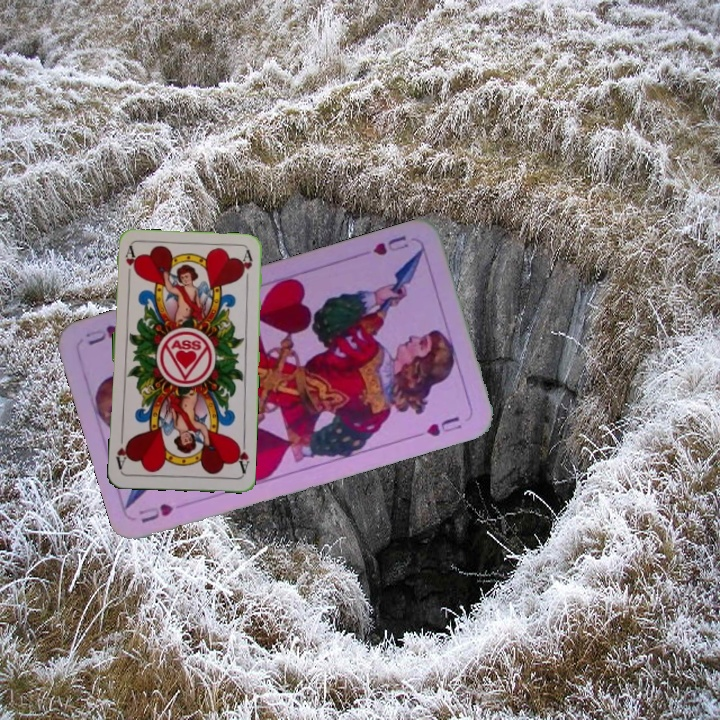HA: (232, 436, 251, 476), (121, 243, 138, 284)
HU: (369, 231, 411, 258), (135, 499, 177, 526)
